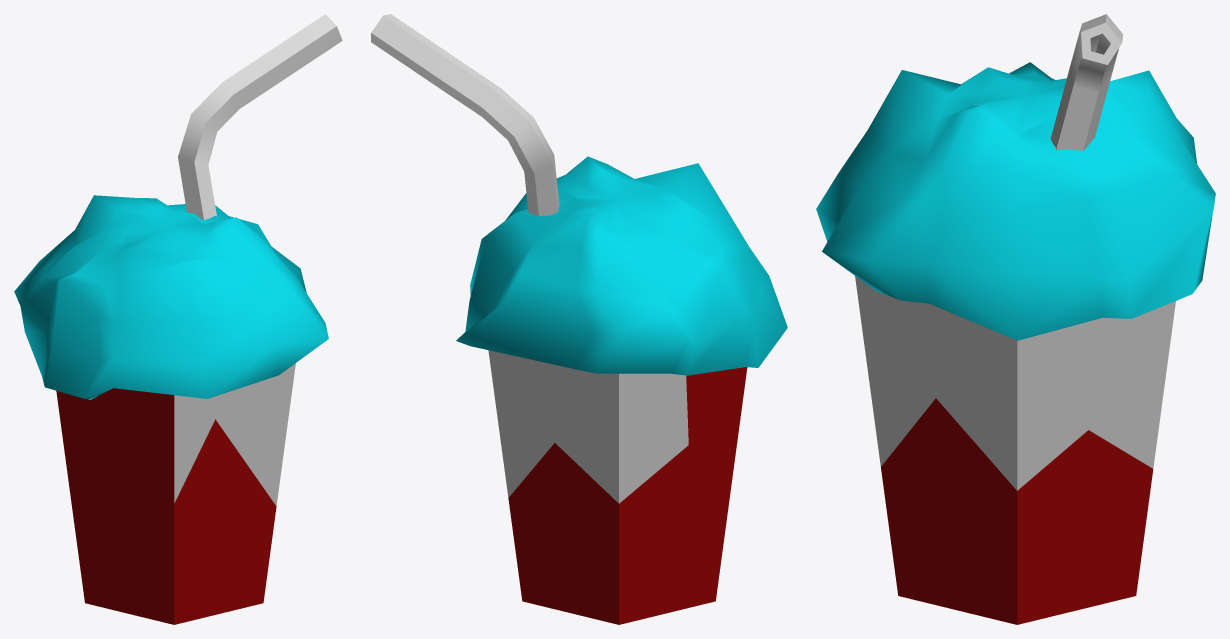
Rendered from Prop_SodaCup_Mod_03.fbx.
3 views of the same model, side by side, from view 1: azimuth 30°, elevation 25°; view 2: azimuth 150°, elevation 25°; view 3: azimuth 270°, elevation 25° (orthographic). The views are drawn at different scales.
Parts seen in each view (by area): view 1: SodaCup2; view 2: SodaCup2; view 3: SodaCup2.
Part boxes in pixels (<box>): SodaCup2: <box>14,14,342,624</box>; SodaCup2: <box>371,14,787,624</box>; SodaCup2: <box>816,14,1215,624</box>.
Size of the model in its own units: 0.3007 by 0.442 by 0.2411.
